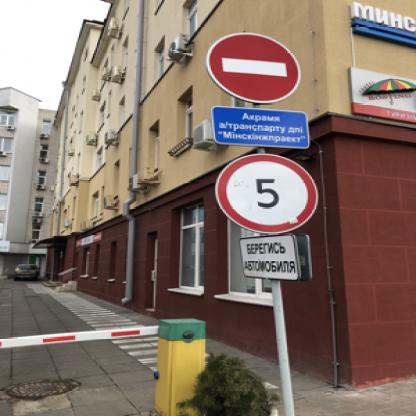speedlimit: (214, 153, 316, 233)
